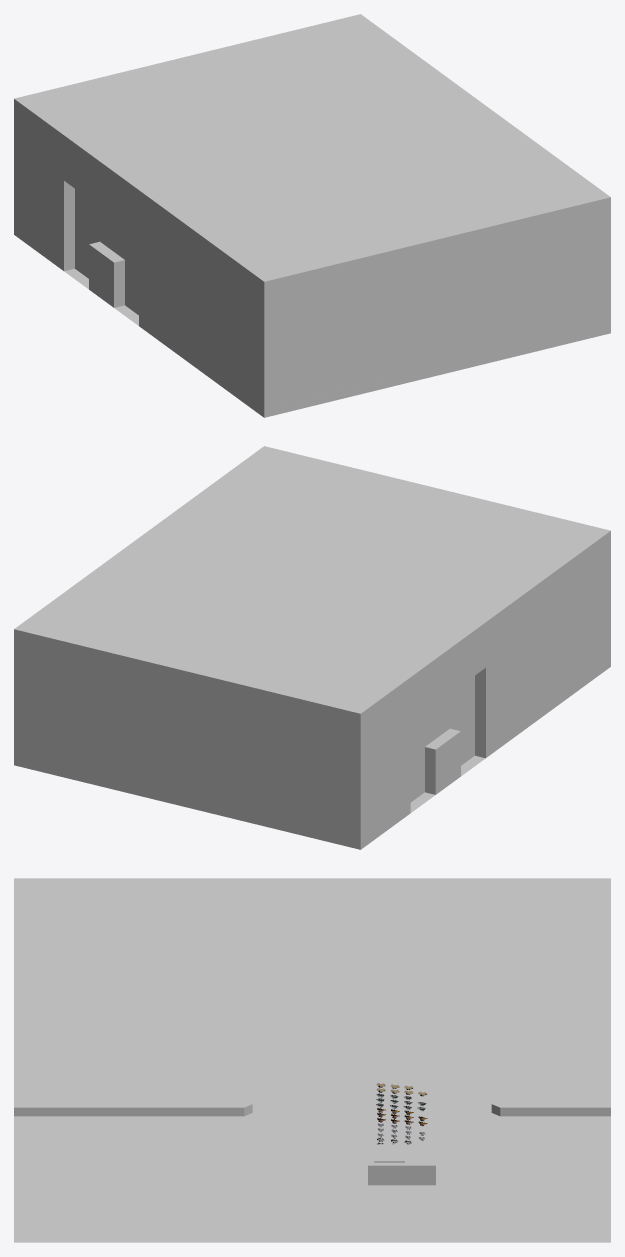
File: SPY03FX.fbx
The picture shows the model from 3 angles, top to bottom: view 1: azimuth 30°, elevation 25°; view 2: azimuth 150°, elevation 25°; view 3: azimuth 270°, elevation 25°; orthographic projection. The views are drawn at different scales.
Visible parts, largest first — view 1: Plane.013; view 2: Plane.013; view 3: Plane.013, Plane.020, Plane.015.
Part boxes in pixels (<box>): Plane.013: <box>14,14,610,417</box>; Plane.013: <box>14,446,610,849</box>; Plane.013: <box>14,878,610,1242</box>; Plane.020: <box>368,1144,435,1185</box>; Plane.015: <box>376,1083,427,1144</box>.
Bounding box in the file's own units: 1600 × 600 × 2000.
